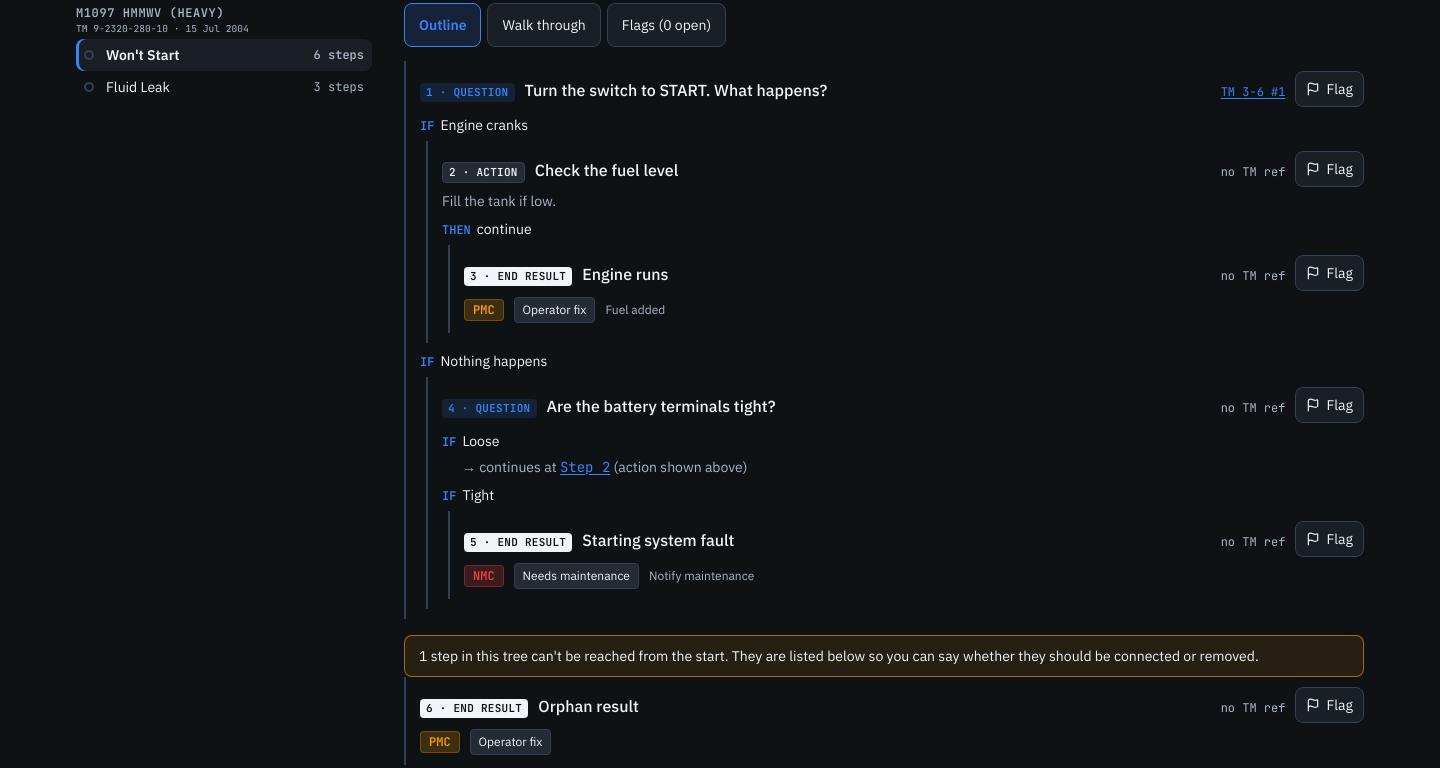
it: Troubleshooting review: flags › raises a flag on a step, then the author can resolve or delete it
The image size is (1440, 768).
(page scrolled)
Click the button with aria-label "Flag step 4".
click(1330, 405)  # box [1296,387,1364,423]
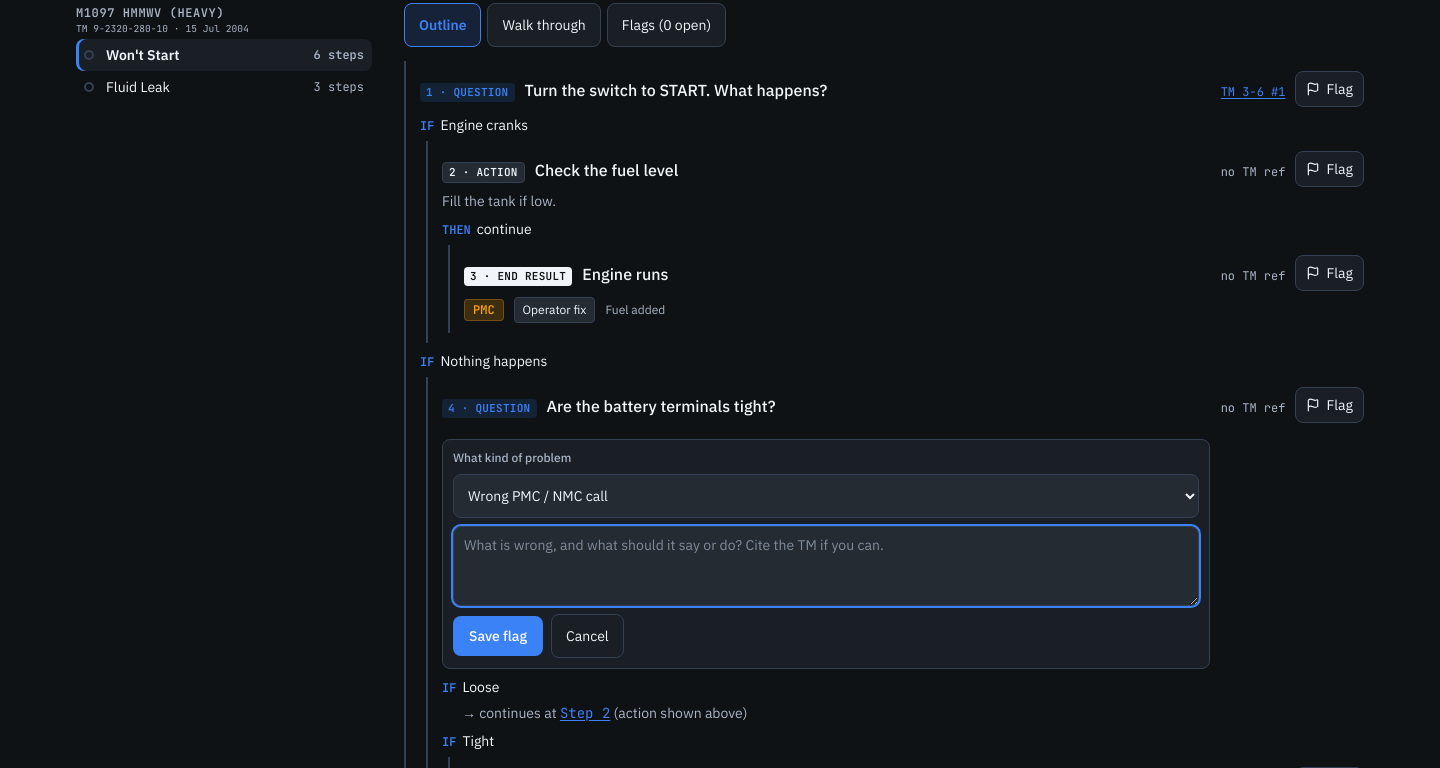
Select "Wrong or missing TM reference" in the dropdown labelled "What kind of problem" at (826, 496), box [453,474,1199,518]
Click the button "Save flag".
click(498, 636)  # box [453,616,543,656]
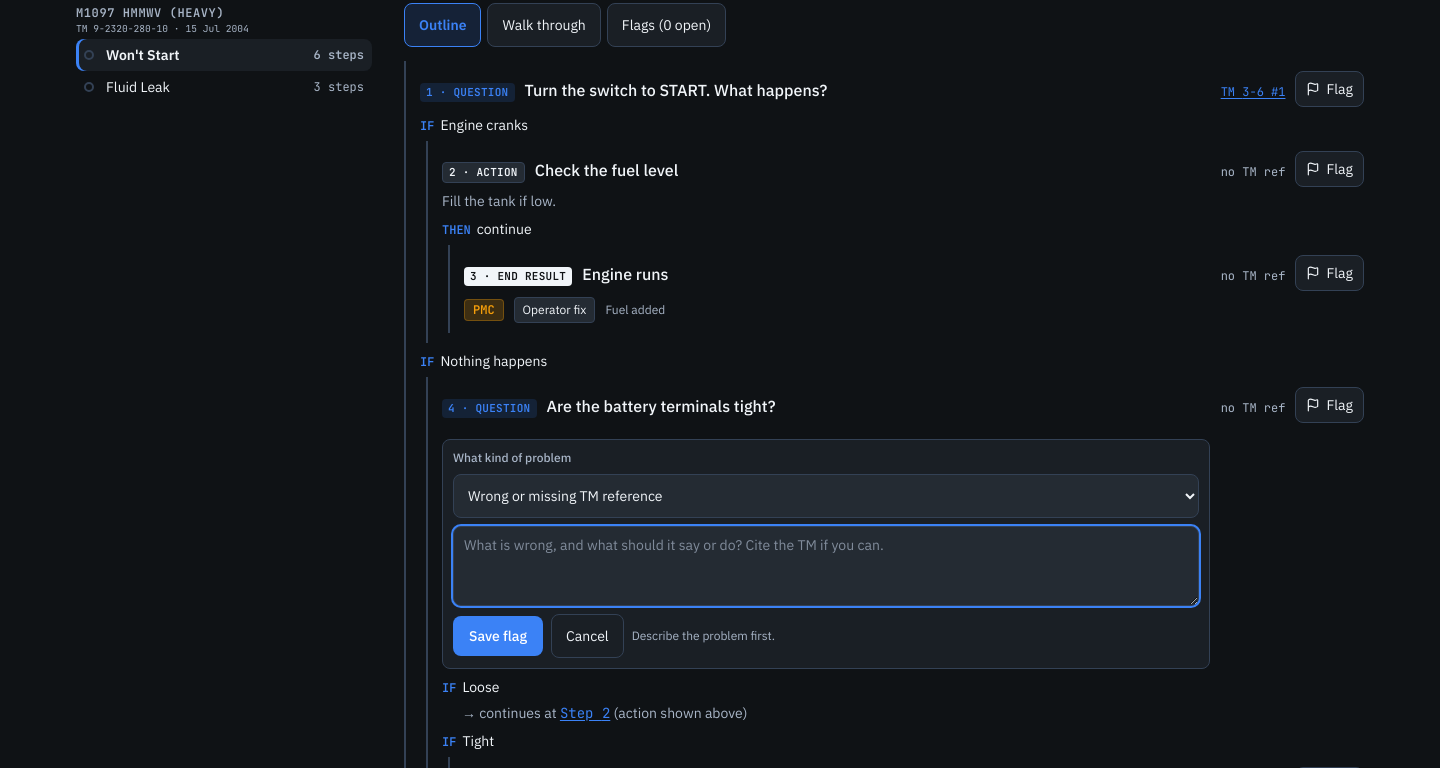
Now the text "Describe the problem first." is shown, box [632,628,775,644]
Replace the text in the text box named "Flag details" with "  Cite para 3-10.  " at (826, 566), box [453,526,1199,606]
Click the button "Save flag".
click(498, 636)  # box [453,616,543,656]
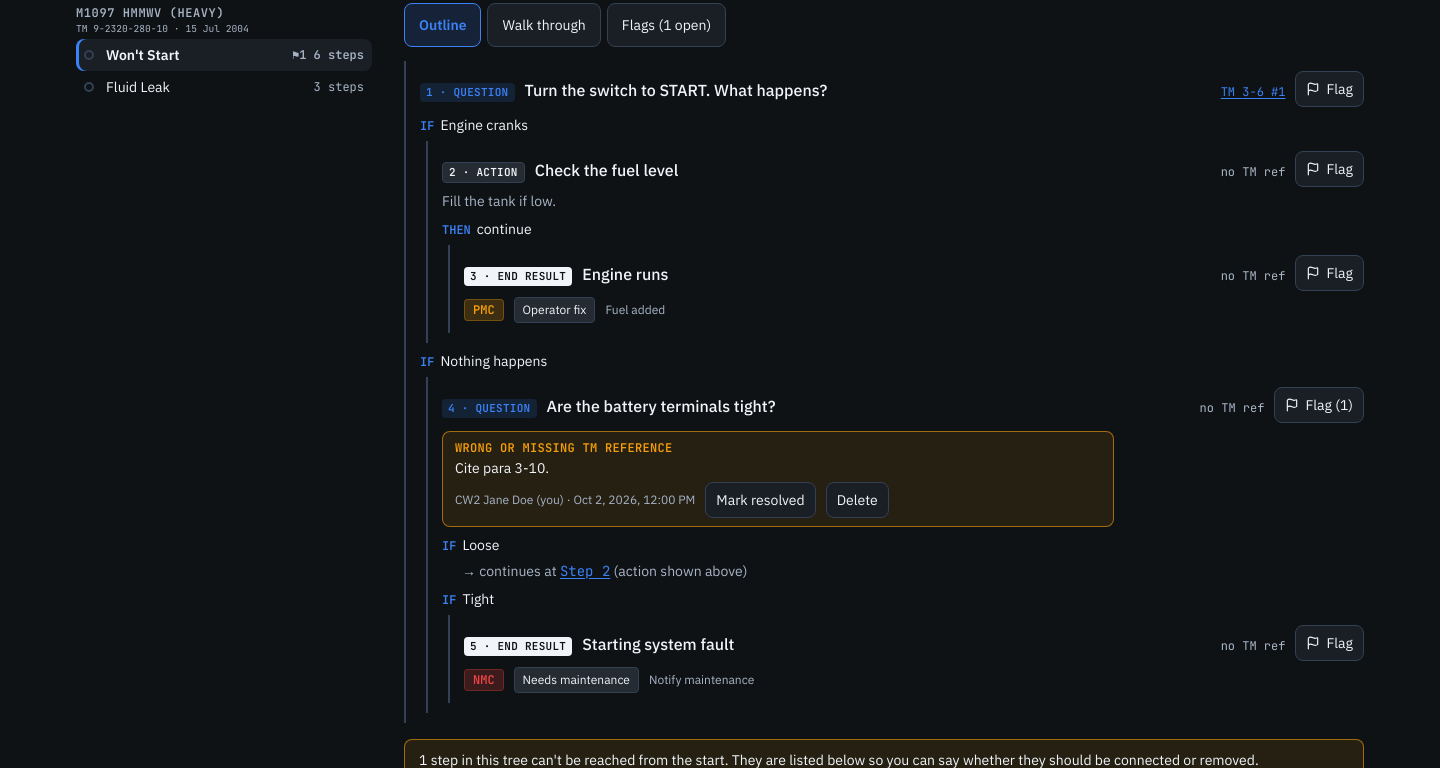
Now the element with test id "flag-card" shows "Wrong or missing TM reference", box [455,440,672,456]
Now the element with test id "flag-card" shows "CW2 Jane Doe (you)", box [455,492,564,507]
Now the button with aria-label "Flag step 4 (1 open)" is shown, box [1274,387,1364,423]
Click the button "Mark resolved".
click(760, 500)  # box [705,482,816,518]
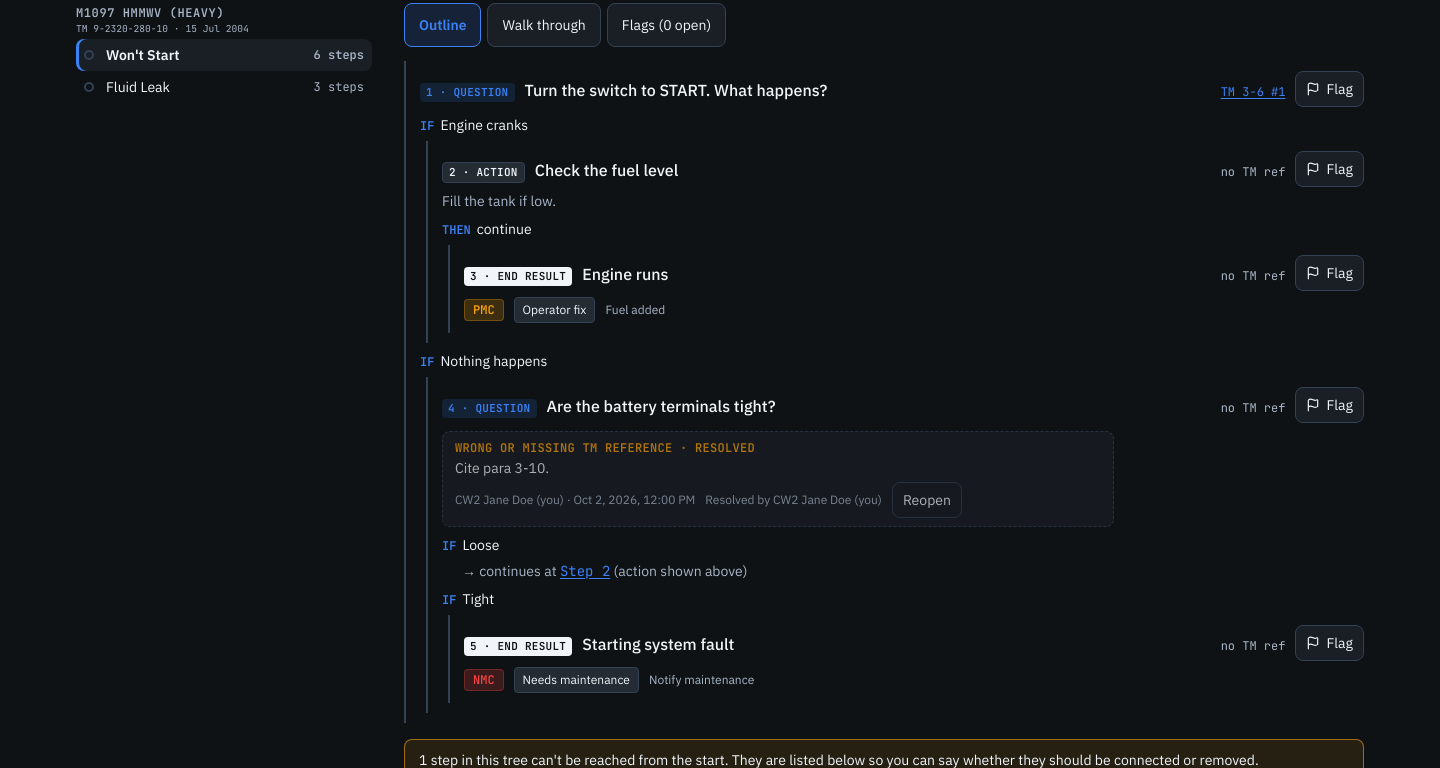
Now the button "Reopen" is shown
Now the button "Delete" is gone
Click the button "Reopen".
click(927, 500)  # box [892,482,962,518]
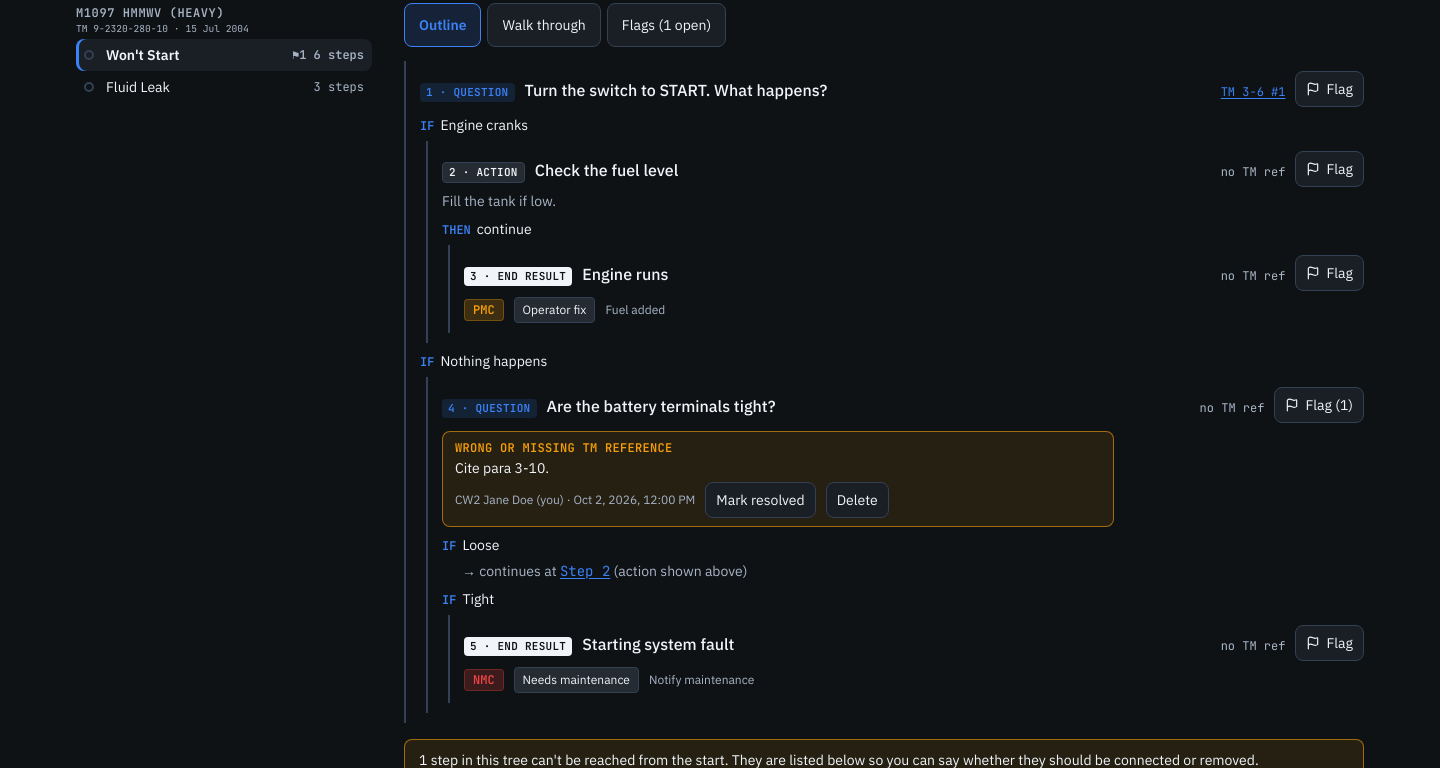
Now the button "Delete" is shown
Click the button "Delete".
click(857, 500)  # box [826,482,889,518]
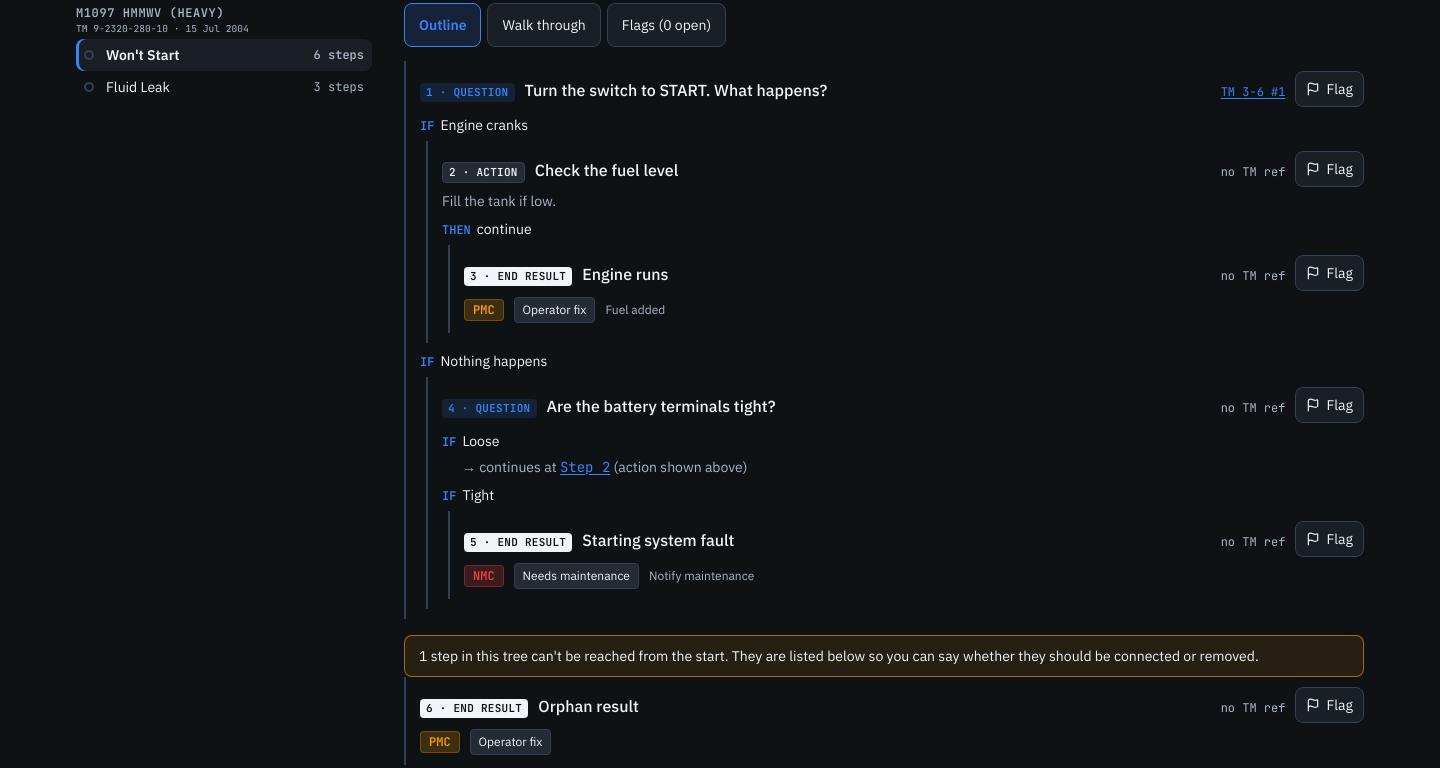
Now the element with test id "flag-card" is gone
